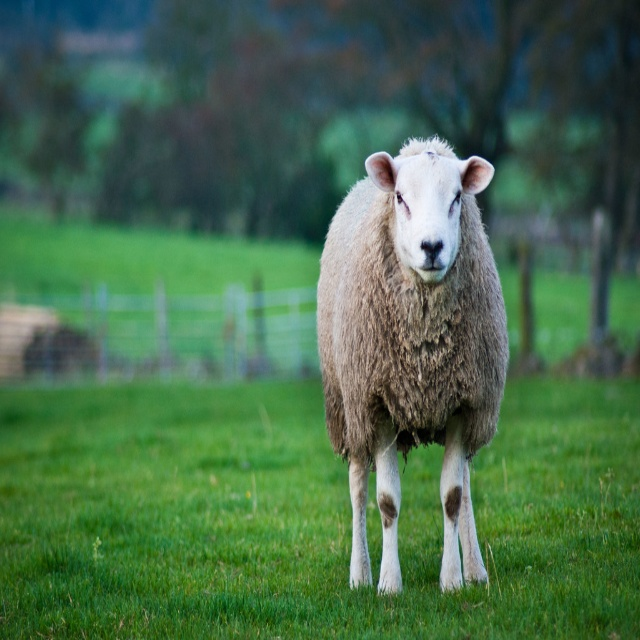Sheep: (324, 135, 496, 585)
